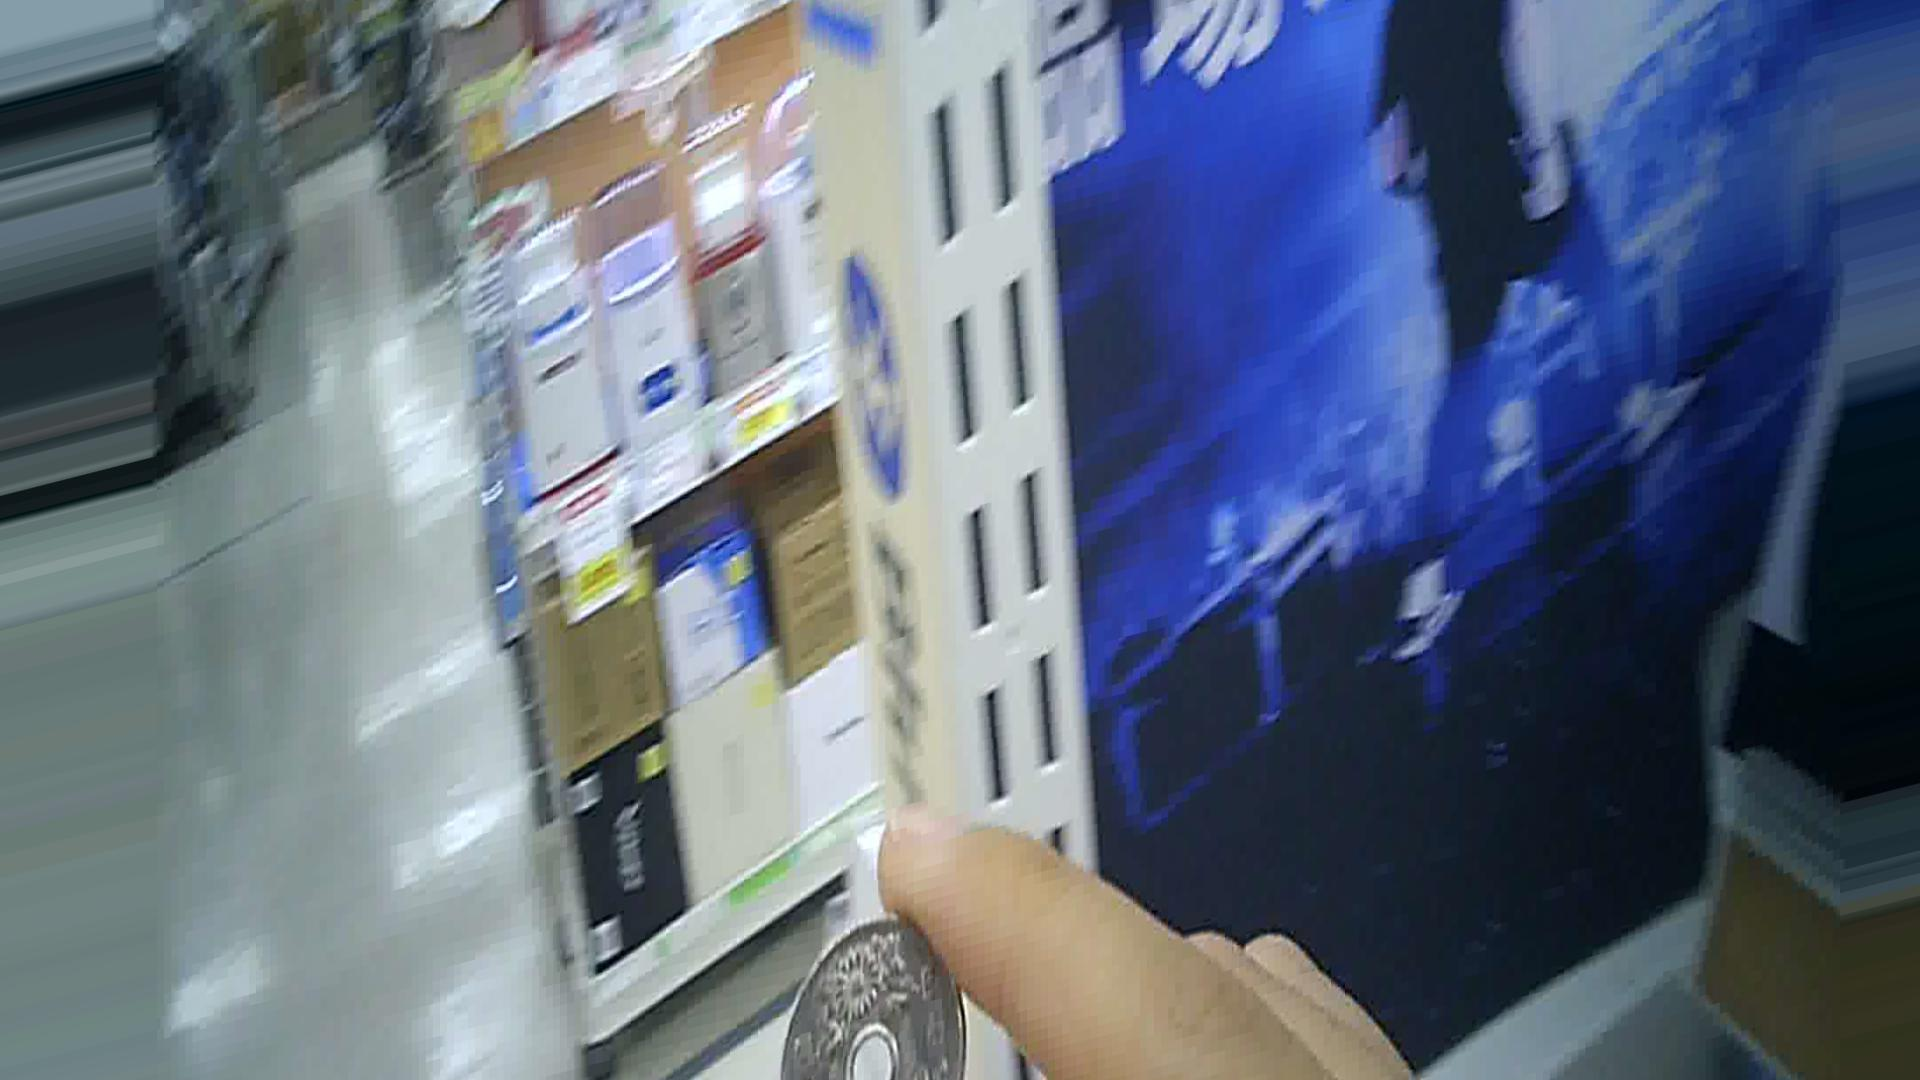50 Yen: (781, 909, 977, 1072)
